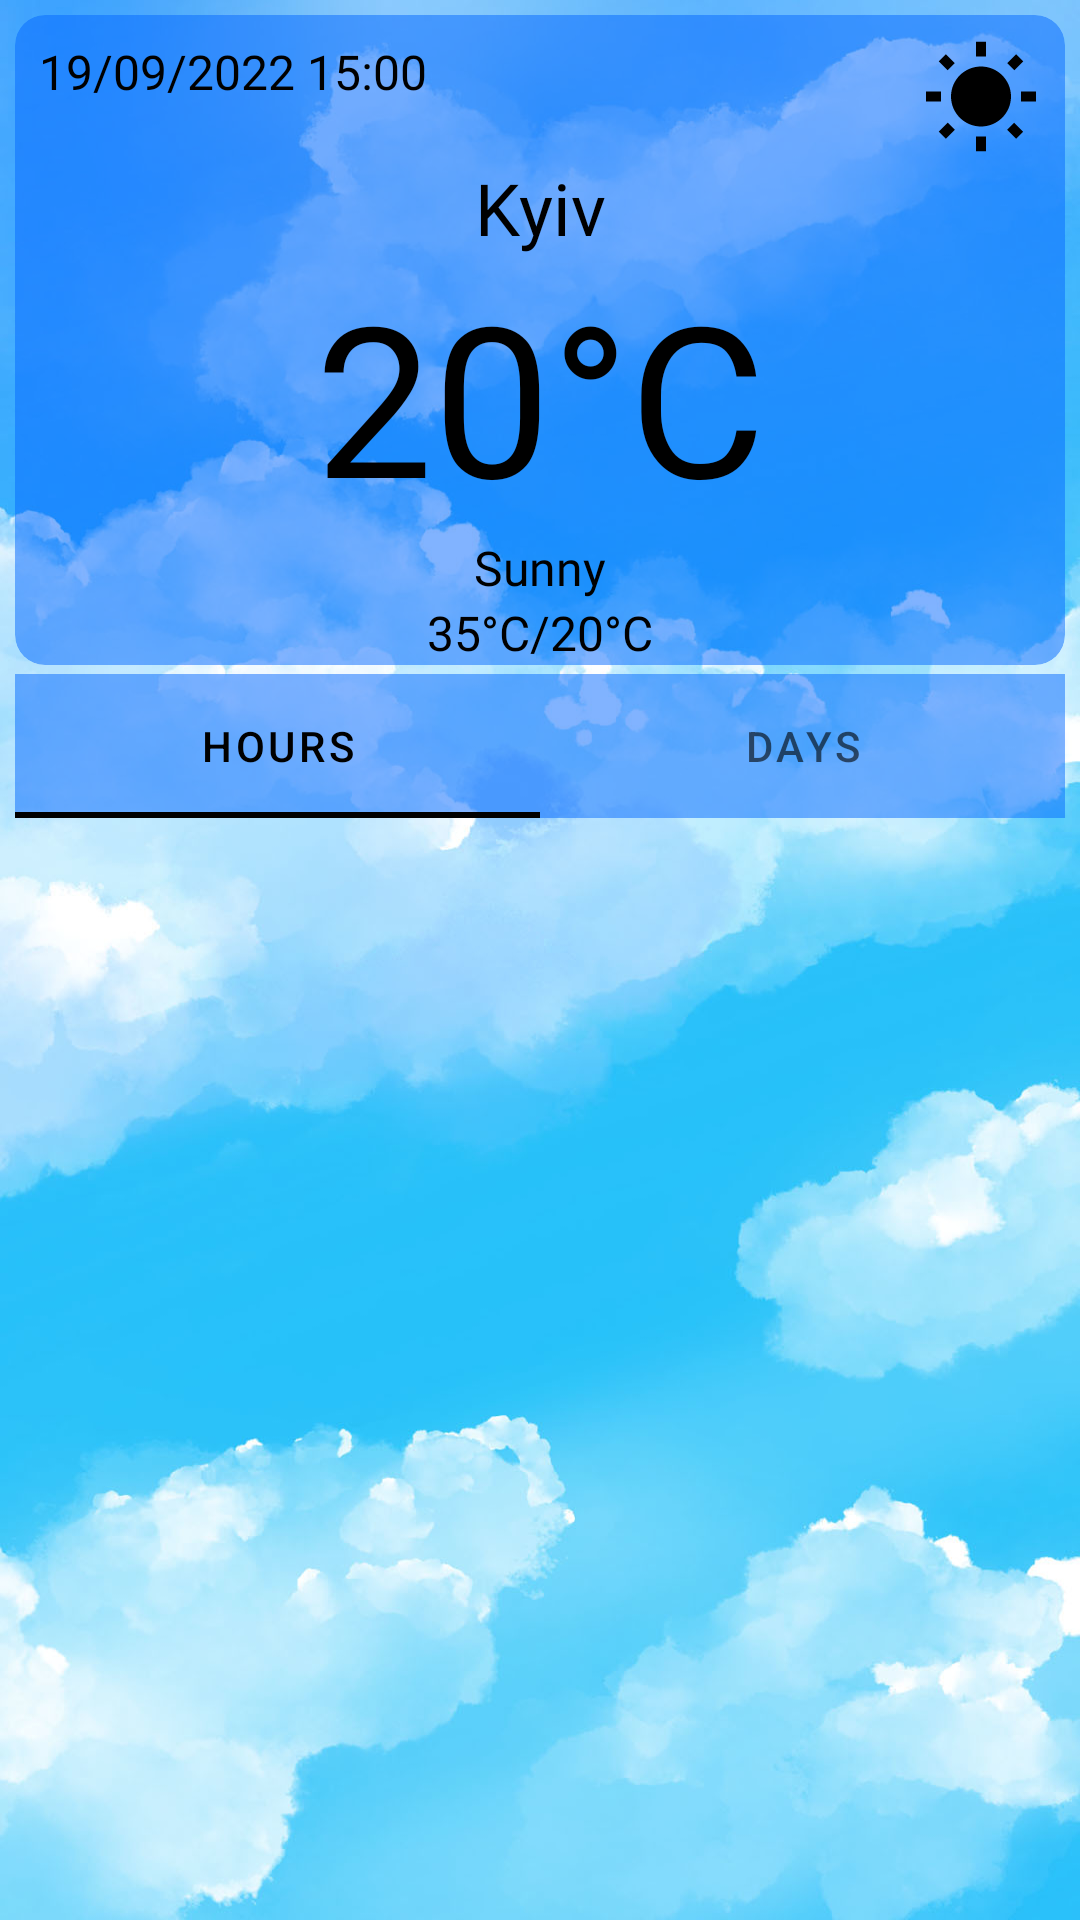

Named icons in this screenshot (1080*1920) and their centers, (x,y):
sunny: (978,95)
